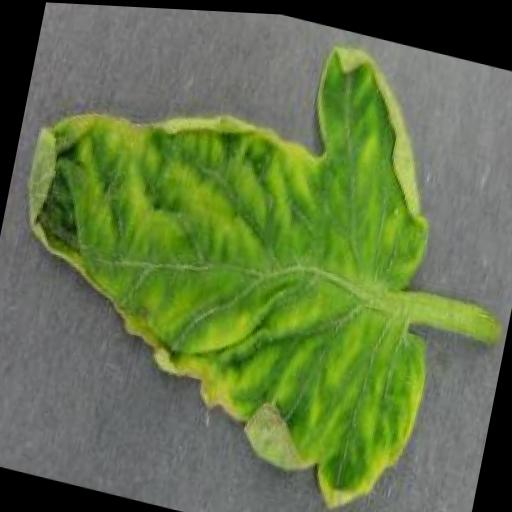Yellow Leaf Curl Virus: (0, 0, 488, 512)
